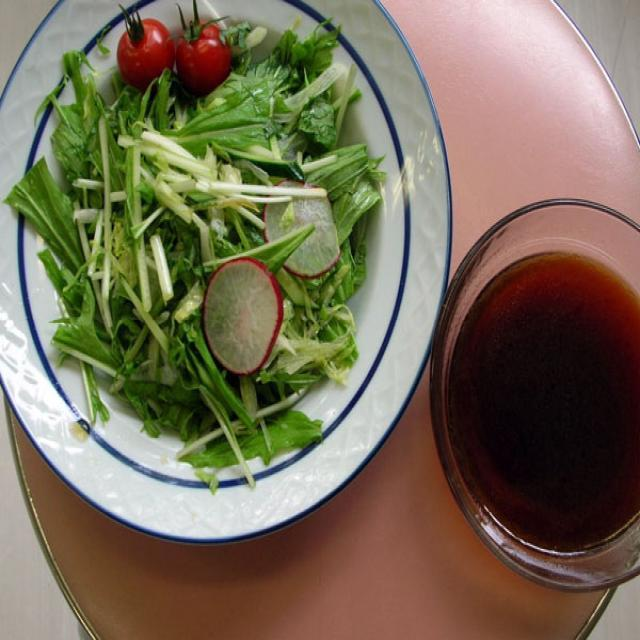Green Salad: (42, 28, 388, 426)
